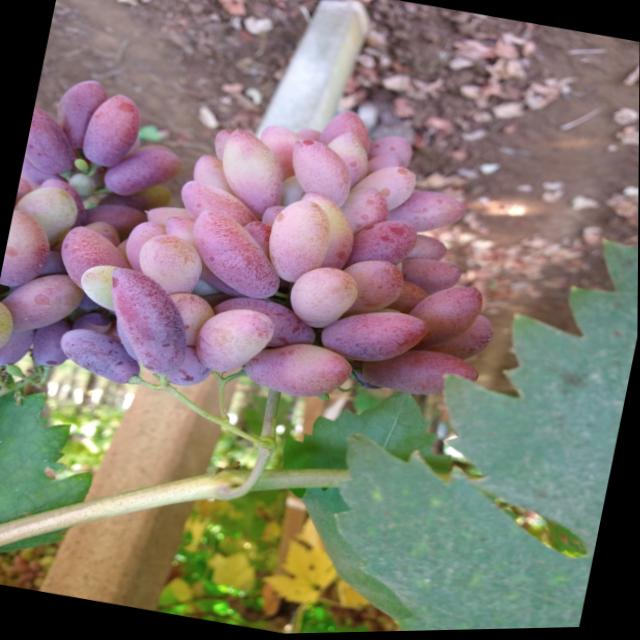grapes: (94, 265, 202, 381), (183, 208, 293, 305), (352, 338, 483, 409), (241, 333, 359, 409), (318, 301, 432, 375), (206, 290, 326, 360), (212, 128, 294, 227), (398, 277, 487, 365), (192, 302, 279, 382), (263, 195, 336, 289), (0, 263, 84, 343), (289, 190, 363, 279), (55, 222, 137, 299), (7, 180, 83, 259), (283, 138, 358, 217), (102, 137, 187, 206), (285, 262, 363, 337), (332, 254, 410, 329), (55, 325, 147, 388), (343, 213, 420, 287), (80, 90, 147, 173), (176, 179, 265, 240), (384, 184, 470, 246), (134, 231, 208, 302), (0, 208, 57, 294), (22, 104, 85, 179), (51, 74, 110, 154), (346, 160, 420, 219), (158, 289, 219, 354), (432, 309, 497, 367), (336, 184, 394, 245), (316, 106, 377, 162), (73, 197, 150, 241), (395, 256, 464, 304), (361, 132, 416, 188), (254, 124, 304, 185), (77, 260, 132, 315), (28, 315, 77, 372), (190, 154, 248, 202), (122, 220, 170, 277), (163, 343, 216, 393), (384, 278, 433, 323), (237, 219, 281, 266), (325, 128, 374, 170), (145, 201, 202, 236), (20, 154, 73, 191), (38, 178, 90, 213), (0, 320, 35, 371), (404, 234, 450, 269), (161, 214, 203, 250), (0, 299, 19, 363), (83, 219, 123, 249), (212, 127, 236, 164), (261, 203, 288, 233), (14, 180, 35, 213), (294, 127, 321, 147), (355, 380, 383, 393)
